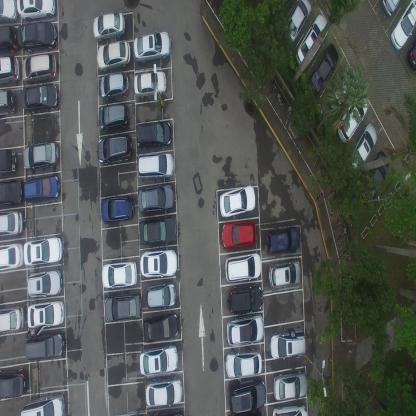car: (295, 11, 328, 71), (337, 90, 368, 145), (308, 40, 338, 95), (362, 148, 389, 207), (328, 63, 356, 118), (350, 120, 378, 172), (282, 0, 312, 48), (227, 378, 266, 414), (137, 343, 178, 376), (389, 0, 415, 52), (134, 28, 170, 64), (227, 316, 265, 350), (17, 20, 58, 50), (101, 259, 138, 292), (21, 53, 58, 86), (27, 302, 65, 334), (21, 84, 60, 115), (23, 237, 63, 267), (138, 182, 173, 216), (98, 134, 133, 168), (219, 184, 255, 217), (270, 329, 306, 362), (223, 253, 261, 284), (104, 292, 142, 323), (22, 142, 60, 173), (145, 376, 183, 407), (25, 332, 65, 361), (24, 174, 60, 206), (19, 390, 65, 415), (101, 192, 134, 226), (226, 286, 263, 316), (139, 214, 176, 244), (138, 152, 175, 182), (225, 350, 263, 379), (97, 39, 130, 72), (273, 370, 307, 402), (136, 121, 172, 151), (220, 219, 256, 249), (140, 247, 177, 276), (92, 11, 126, 42), (264, 229, 298, 259), (27, 268, 61, 298), (142, 312, 178, 340), (268, 262, 300, 292), (133, 69, 167, 97), (0, 366, 28, 400), (145, 279, 175, 309), (98, 101, 128, 131), (99, 71, 129, 100), (0, 241, 25, 274), (16, 0, 57, 20), (0, 304, 24, 336), (0, 177, 23, 208), (0, 54, 21, 87), (0, 209, 24, 236), (0, 25, 18, 52), (0, 147, 18, 174), (0, 88, 16, 118), (0, 0, 19, 25), (272, 403, 308, 415), (381, 0, 401, 17), (406, 39, 416, 71)
